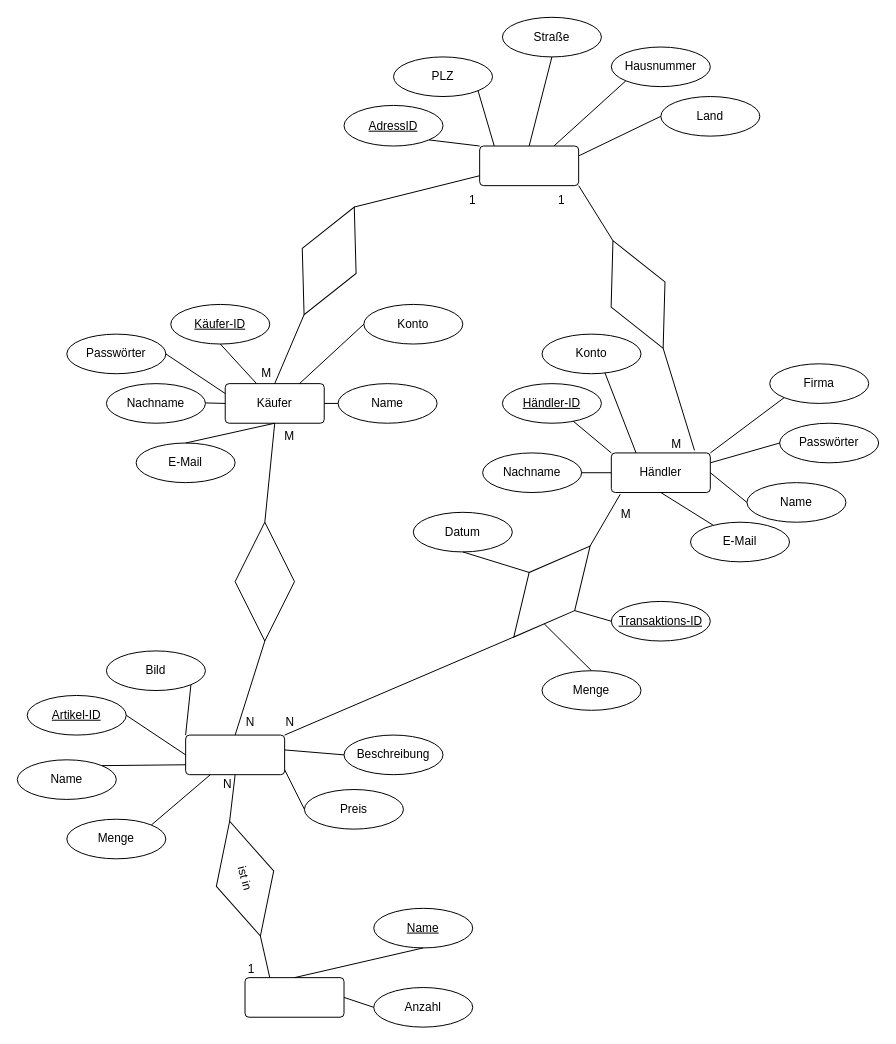
Image size: 896x1044. Some labels were removed from this diagram. The shapes that lost their labels are listed below. From the top down, each one's centre as x and y in pixels, then its label:
At [529,165]: "Adresse".
At [328,260]: "wohnt in".
At [637,294]: "hat Sitz in".
At [264,581]: "verkauft".
At [551,591]: "kauft".
At [235,754]: "Produkt".
At [294,997]: "Kategorie".
